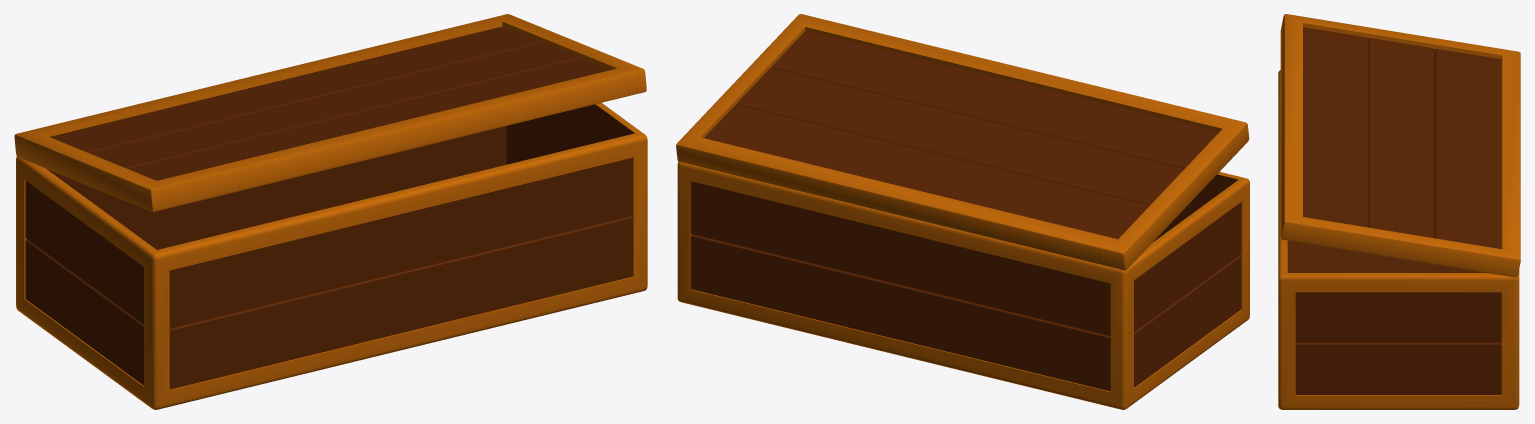
The model's file is KASA-YARIM-ACIK.fbx.
3 renders of one model, left to right at view 1: azimuth 30°, elevation 25°; view 2: azimuth 150°, elevation 25°; view 3: azimuth 270°, elevation 25°, orthographic. The views are drawn at different scales.
Visible parts, largest first — view 1: KASA-YARIM-ACIK; view 2: KASA-YARIM-ACIK; view 3: KASA-YARIM-ACIK.
Part boxes in pixels (x1,y1,x2,y2): KASA-YARIM-ACIK: [14, 14, 647, 409]; KASA-YARIM-ACIK: [676, 14, 1249, 409]; KASA-YARIM-ACIK: [1278, 14, 1520, 409].
Bounding box in the file's own units: 79.43 × 33.7 × 39.06.
